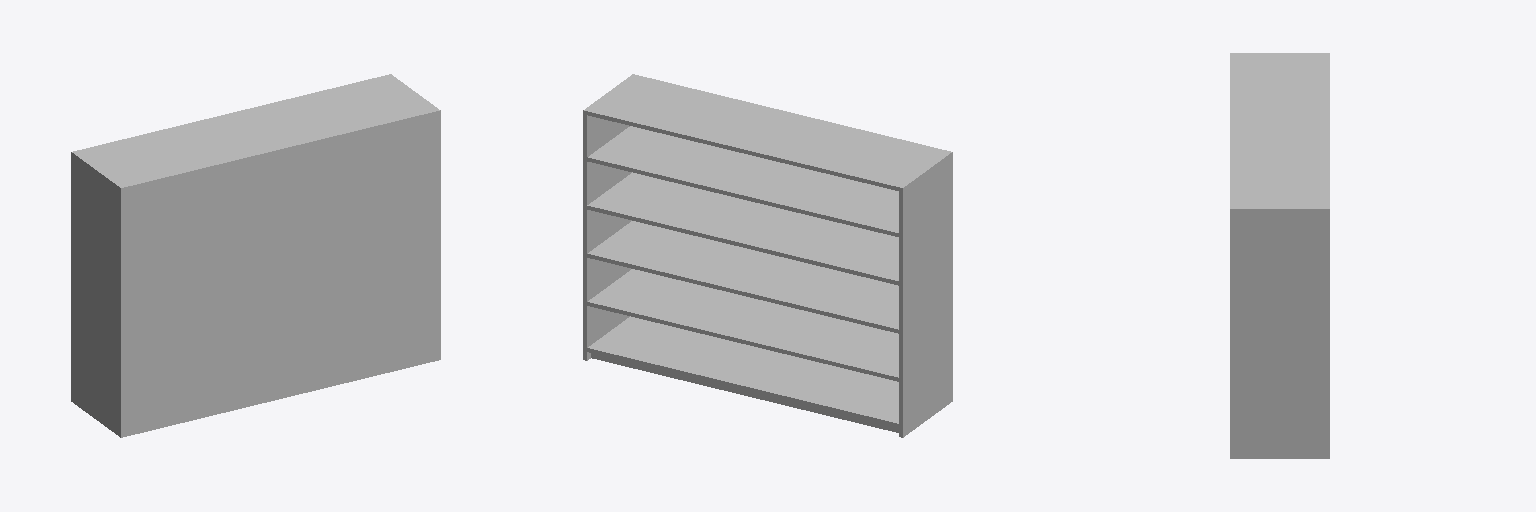
The model's file is Regal Bar.obj.
The picture shows the model from 3 angles: view 1: azimuth 30°, elevation 25°; view 2: azimuth 150°, elevation 25°; view 3: azimuth 270°, elevation 25°; orthographic projection.
Visible parts, largest first — view 1: Regal_Bar; view 2: Regal_Bar; view 3: Regal_Bar.
Part boxes in pixels (bbox=[...]): Regal_Bar: bbox=[71, 74, 440, 437]; Regal_Bar: bbox=[583, 74, 952, 437]; Regal_Bar: bbox=[1230, 53, 1329, 458].
Bounding box in the file's own units: 4.08 × 3.05 × 1.1.